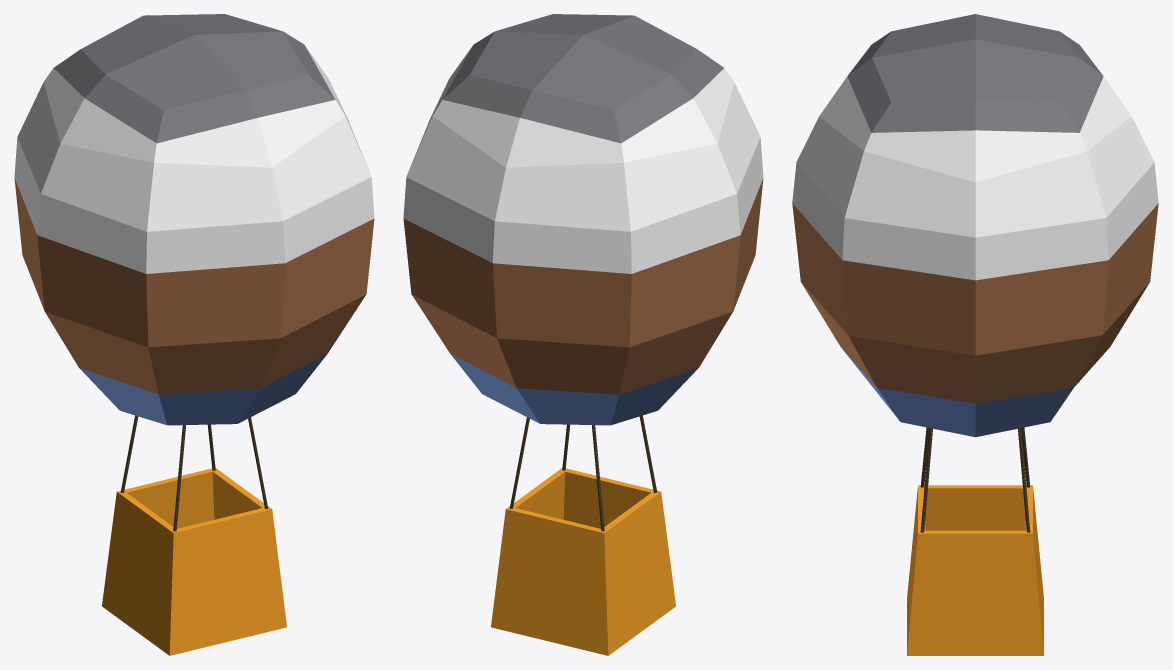
The model's file is Flying balloon_3.fbx.
3 renders of one model, left to right at view 1: azimuth 30°, elevation 25°; view 2: azimuth 150°, elevation 25°; view 3: azimuth 270°, elevation 25°, orthographic.
Parts seen in each view (by area): view 1: Flying balloon_3; view 2: Flying balloon_3; view 3: Flying balloon_3.
Part boxes in pixels (x1,y1,x2,y2): Flying balloon_3: (14,14,374,655); Flying balloon_3: (403,14,763,655); Flying balloon_3: (792,14,1158,655).
Bounding box in the file's own units: 565 × 999 × 565.
